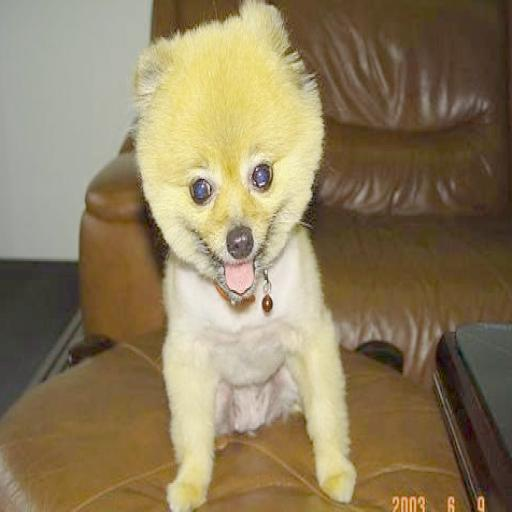dog_face: (140, 12, 319, 291)
